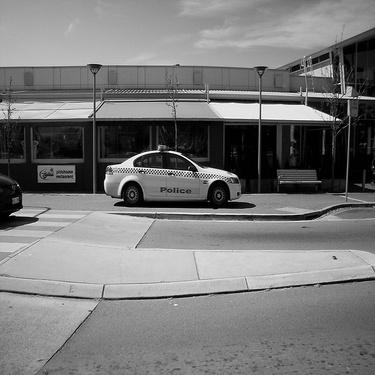car: (93, 142, 247, 208), (1, 171, 27, 229)
